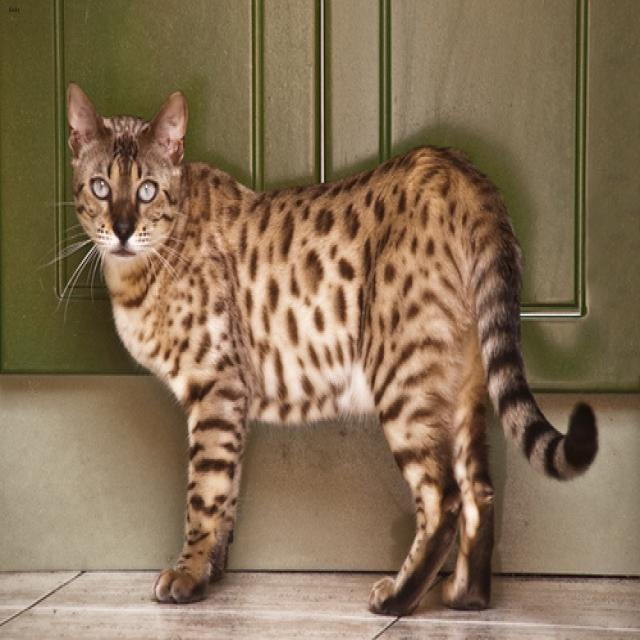Bengal: (65, 80, 187, 263)
